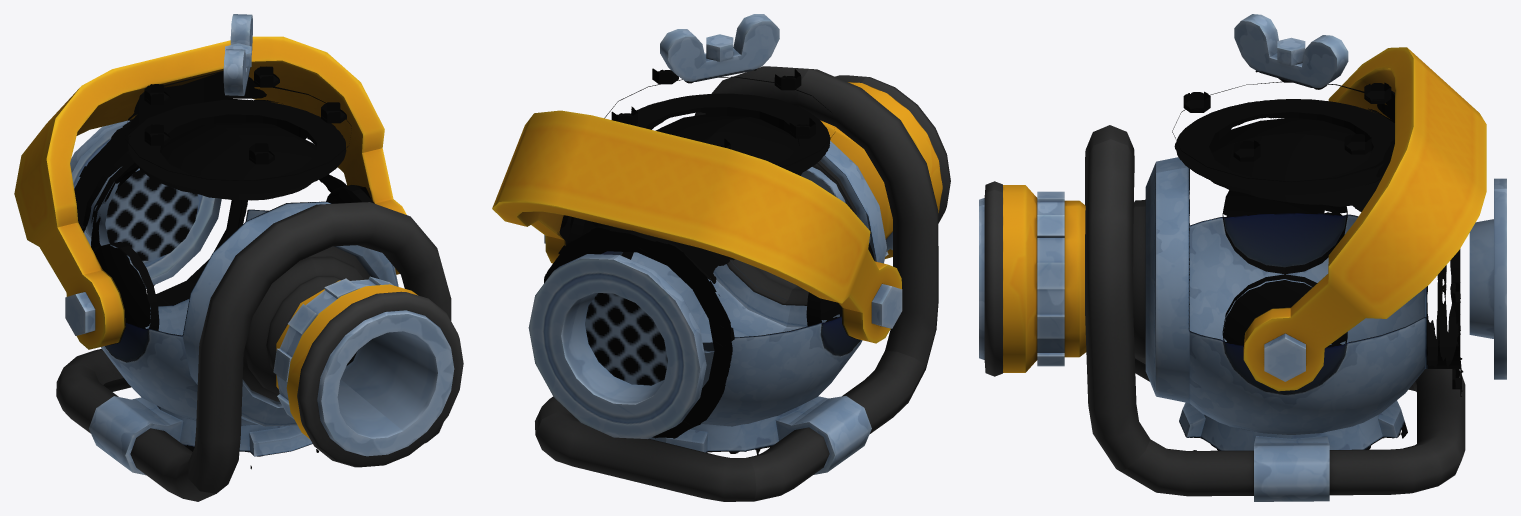
The model's file is obj_interactive_mountablewatercanon_on.fbx.
3 views of the same model, side by side, from view 1: azimuth 30°, elevation 25°; view 2: azimuth 150°, elevation 25°; view 3: azimuth 270°, elevation 25° (orthographic). The views are drawn at different scales.
Parts seen in each view (by area): view 1: obj_interactive_watercanon_part_on; view 2: obj_interactive_watercanon_part_on; view 3: obj_interactive_watercanon_part_on.
Part boxes in pixels (x1,y1,x2,y2): obj_interactive_watercanon_part_on: [14, 14, 463, 501]; obj_interactive_watercanon_part_on: [492, 14, 950, 501]; obj_interactive_watercanon_part_on: [979, 14, 1506, 501].
Size of the model in its own units: 2.67 by 3.1 by 3.54.
Materials: 1 (1 with a texture image).
